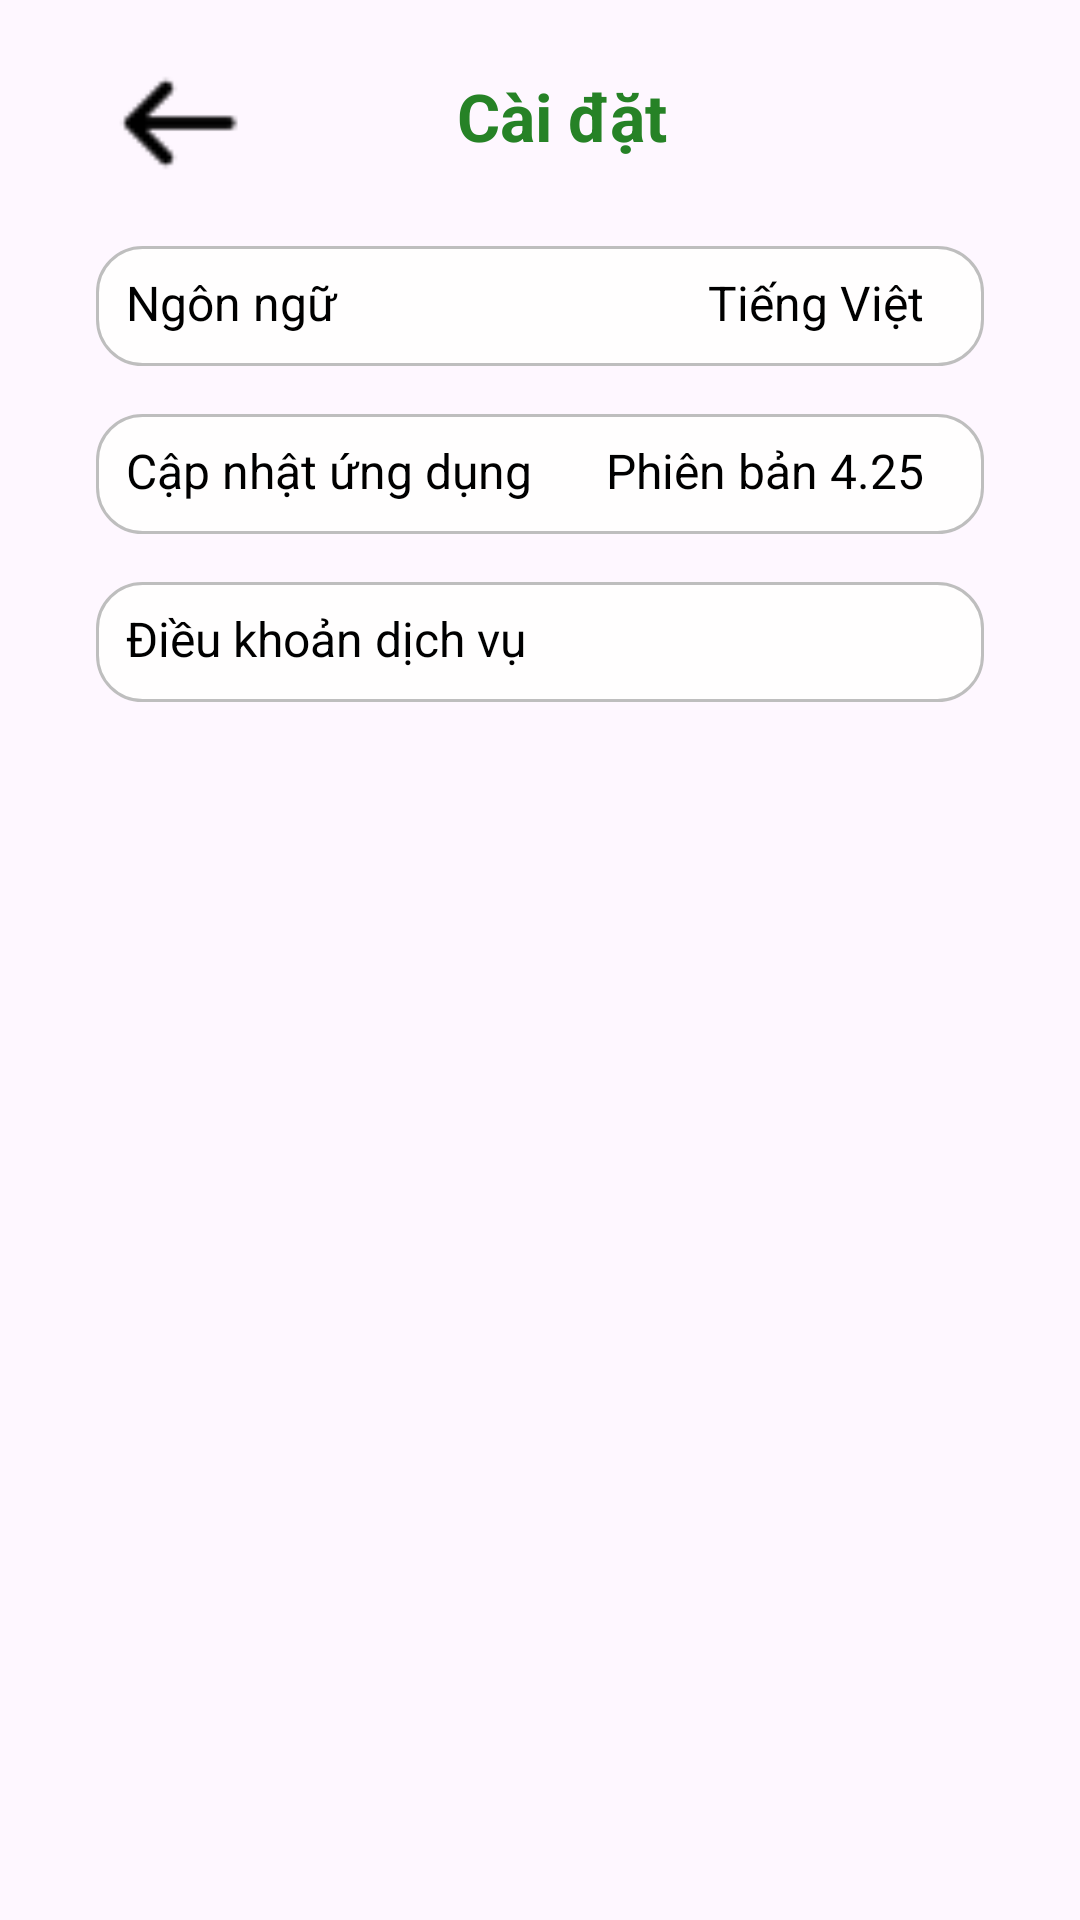

Icon click points for this 1080*1920 phone screenshot, format (x=x, y=y):
arrow back: (x=180, y=123)
